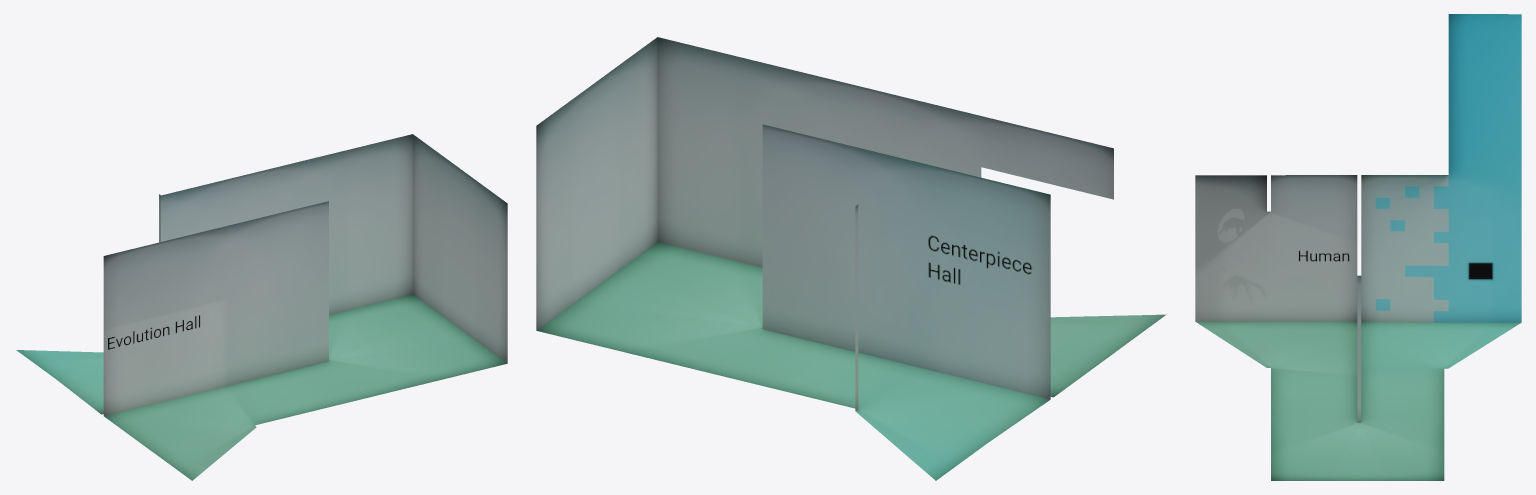
The model's file is divider.glb.
The picture shows the model from 3 angles, left to right: view 1: azimuth 30°, elevation 25°; view 2: azimuth 150°, elevation 25°; view 3: azimuth 270°, elevation 25°; orthographic projection. The views are drawn at different scales.
Visible parts, largest first — view 1: Divider.main.evolution.plain; view 2: Divider.main.evolution.plain; view 3: Divider.main.evolution.plain.
Part boxes in pixels (<box>): Divider.main.evolution.plain: <box>16,134,507,480</box>; Divider.main.evolution.plain: <box>536,37,1165,480</box>; Divider.main.evolution.plain: <box>1195,14,1521,480</box>.
Bounding box in the file's own units: 9.32 × 8.4 × 8.08.
Materials: 1 (1 with a texture image).
